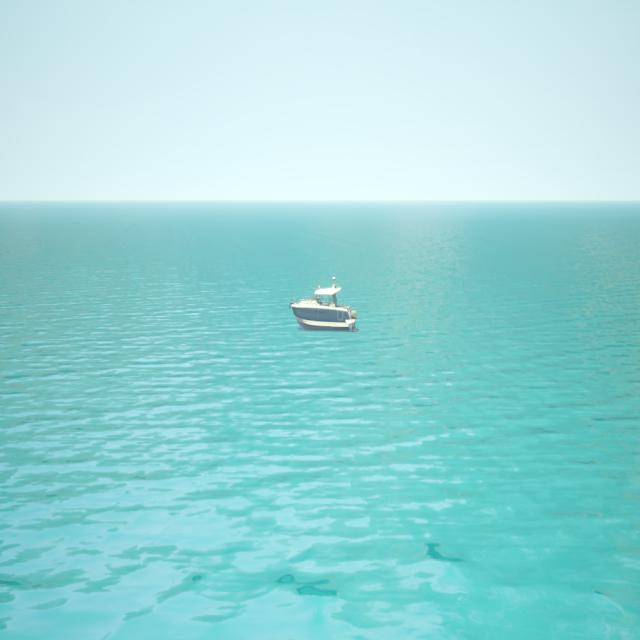ship: (288, 273, 358, 330)
